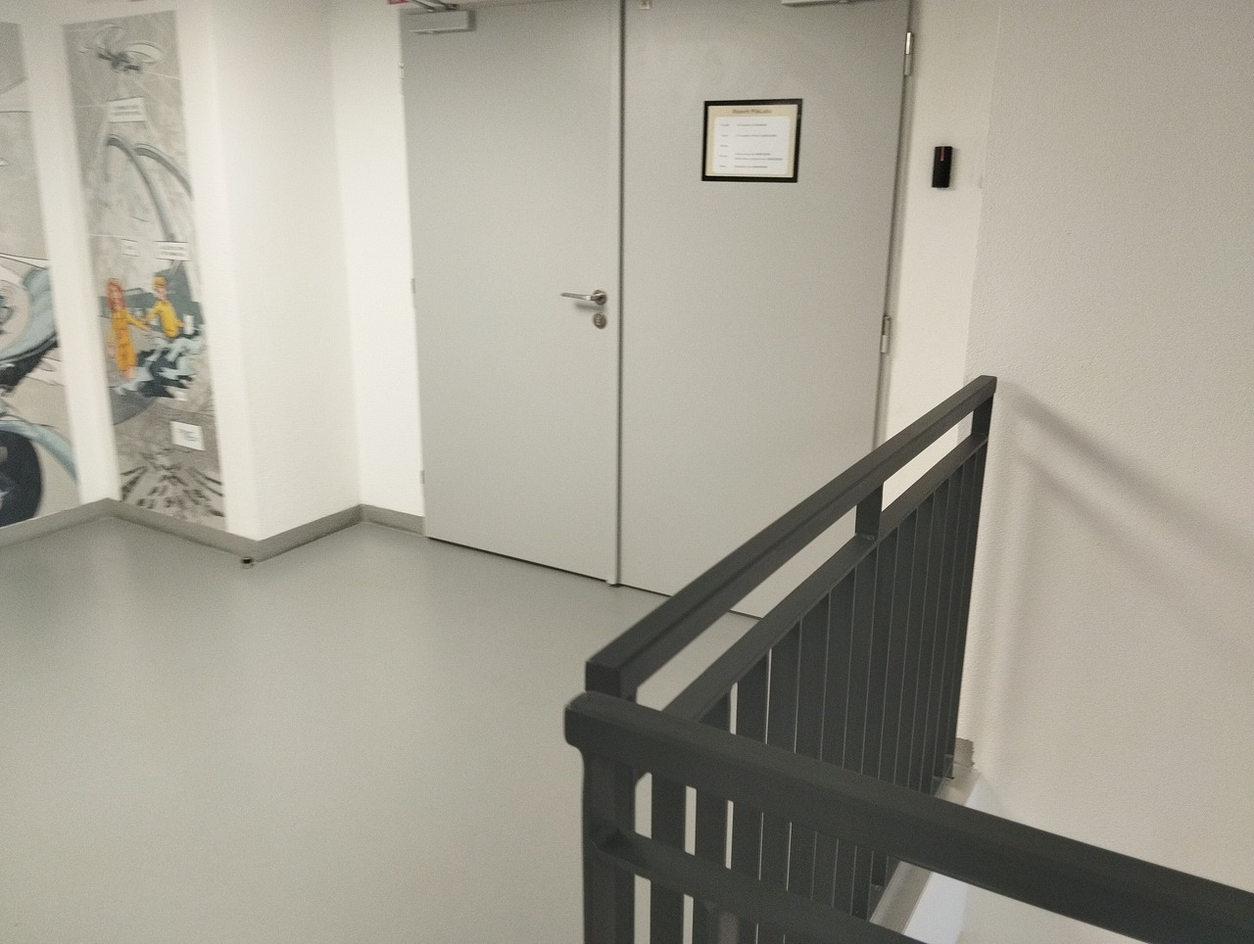Door-handle: (561, 286, 608, 315)
